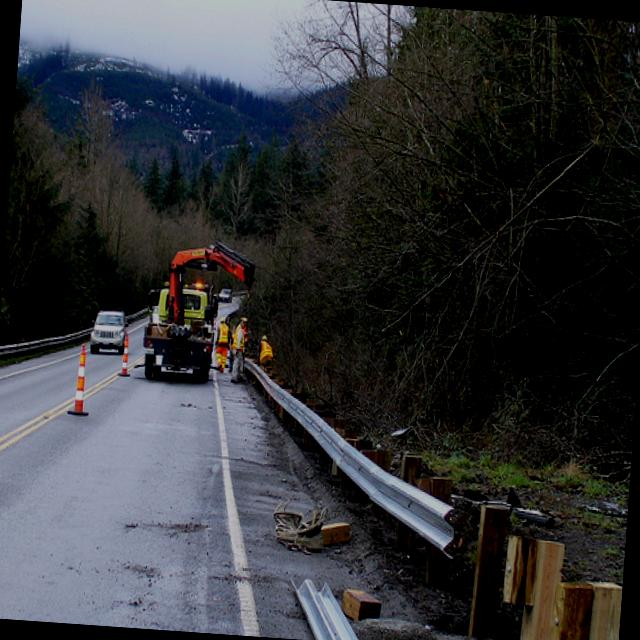Vehicle: (138, 236, 257, 384), (88, 308, 130, 357), (218, 288, 232, 302)
